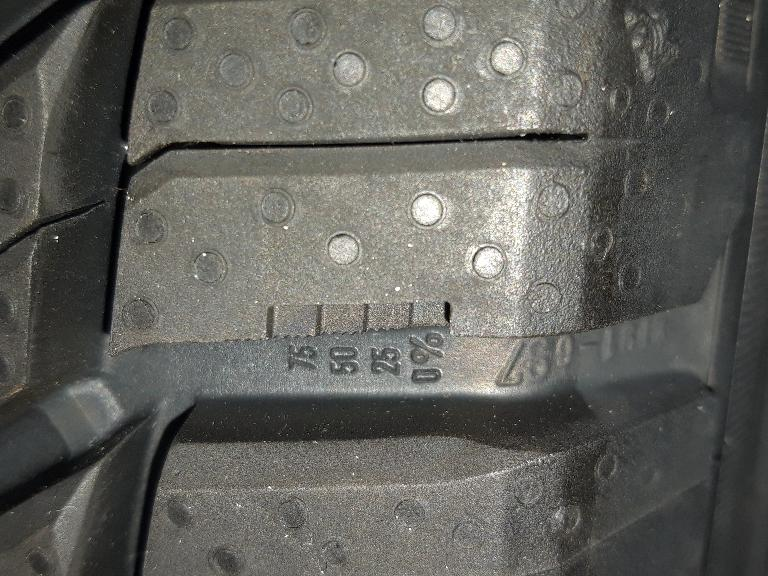temoin:100: (220, 296, 457, 350)
